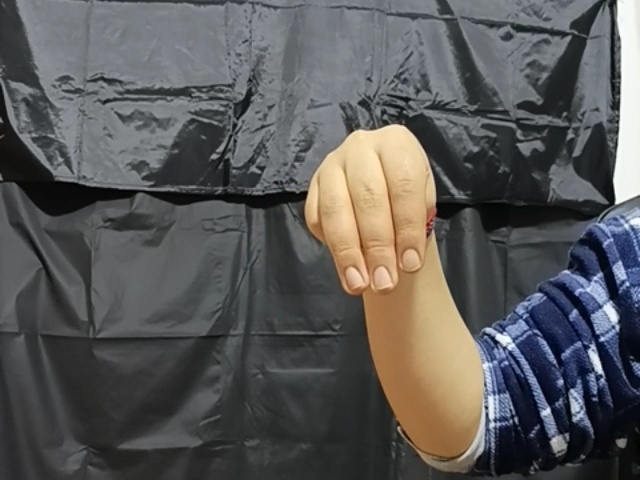M: (303, 120, 447, 303)
